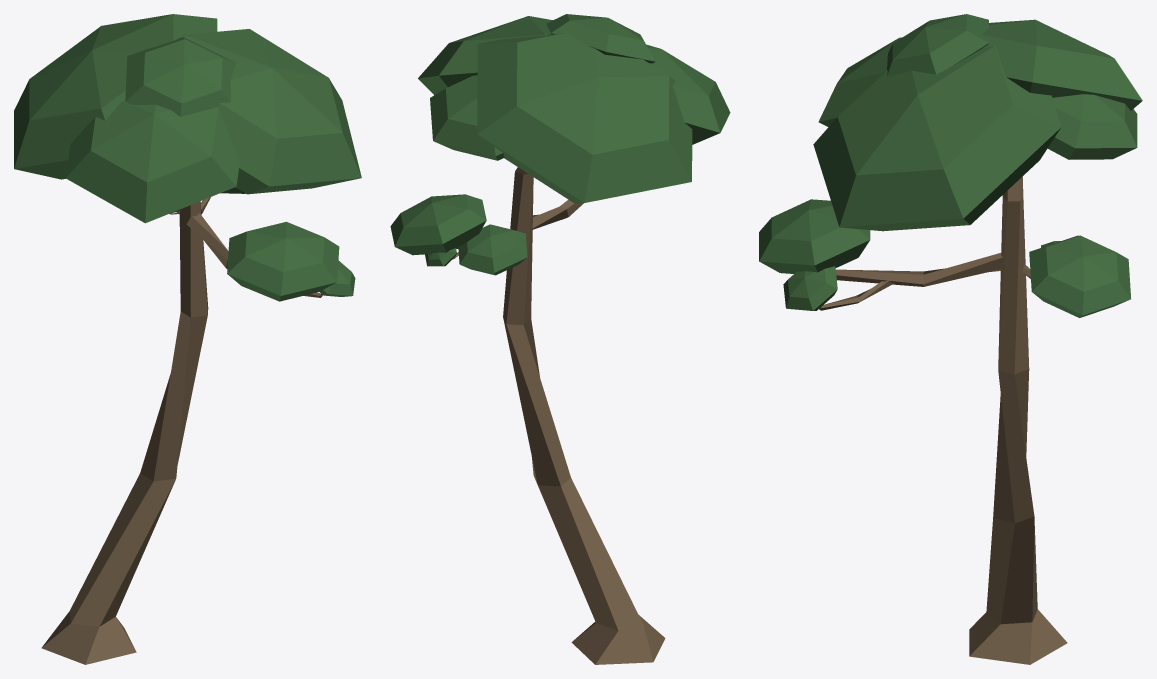
The model's file is BigTree.fbx.
3 renders of one model, left to right at view 1: azimuth 30°, elevation 25°; view 2: azimuth 150°, elevation 25°; view 3: azimuth 270°, elevation 25°, orthographic. The views are drawn at different scales.
Visible parts, largest first — view 1: node_id8.001, BigTree; view 2: node_id8.001, BigTree; view 3: node_id8.001, BigTree.
Part boxes in pixels (x1,y1,x2,y2): node_id8.001: (14, 14, 361, 301); BigTree: (41, 197, 322, 664); node_id8.001: (390, 14, 730, 275); BigTree: (452, 167, 665, 664); node_id8.001: (759, 14, 1142, 317); BigTree: (819, 177, 1067, 664).
Size of the model in its own units: 135 by 255 by 137.
